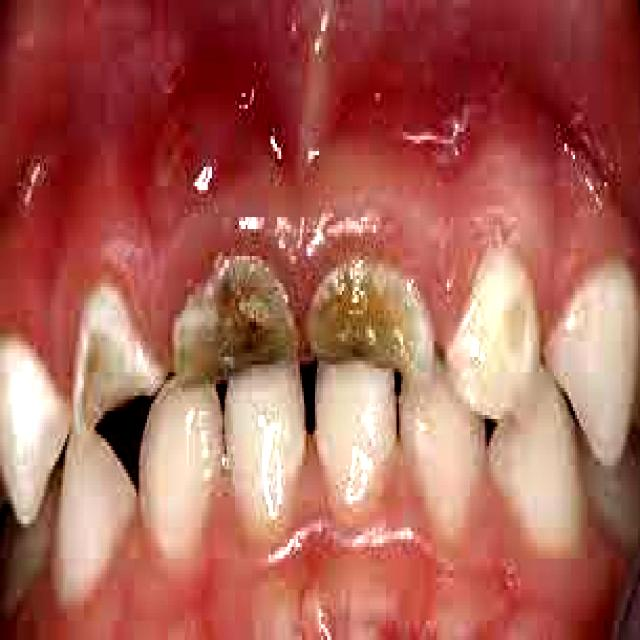cariess: (172, 256, 298, 376), (306, 260, 434, 376)
